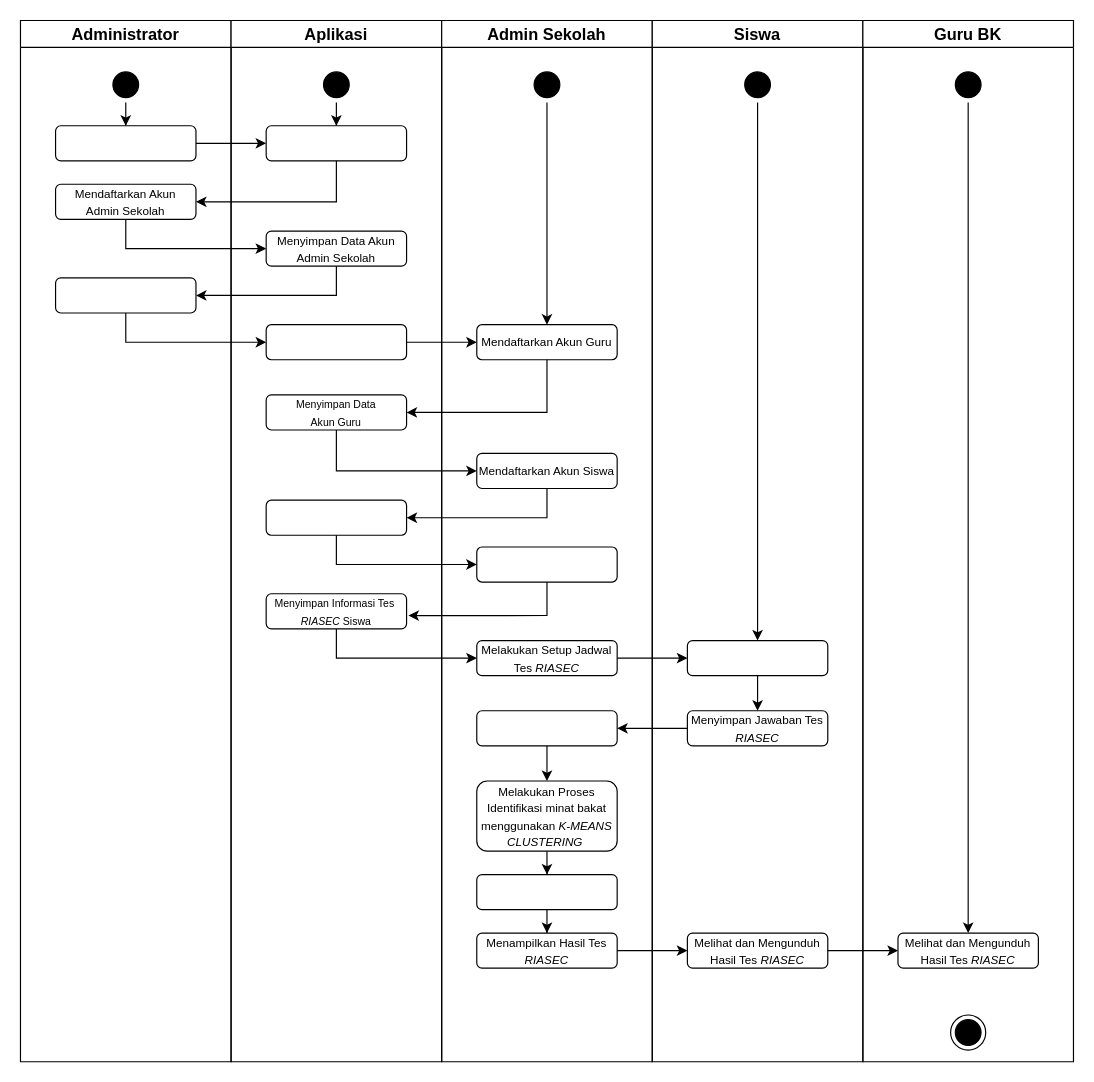
The diagram is 1094 pixels wide and 1082 high, and some of its shapes have lost their labels. The centre of each missing label's shape, as x and y in pixels:
"Melakukan Setup Soal Tes RIASEC" goes at (x=125, y=295).
"Menambahkan Siswa yang akan melakukan Tes RIASEC" goes at (x=546, y=564).
"Mendaftarkan Data Sekolah" goes at (x=125, y=143).
"Mengerjakan Soal Tes RIASEC" goes at (x=757, y=657).
"Menyimpan Data Akun Siswa" goes at (x=336, y=517).
"Menyimpan Data Sekolah" goes at (x=336, y=143).
"Menyimpan Hasil Tes RIASEC" goes at (x=546, y=891).
"Menyimpan Jawaban Tes RIASEC siswa" goes at (x=546, y=728).
"Menyimpan Soal Tes RIASEC" goes at (x=336, y=342).
